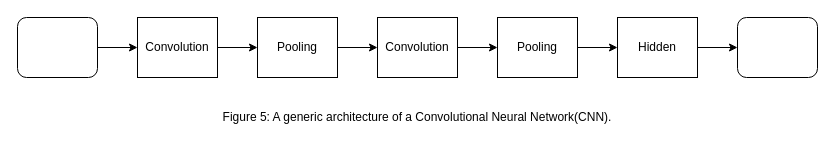
Image size: 835x155. Some labels were removed from this diagram. The shapes that lost their labels are listed below. From the top down, each one's centre as x and y in pixels, then its label:
At point 57,47: "Input Data".
At point 777,47: "Output".
